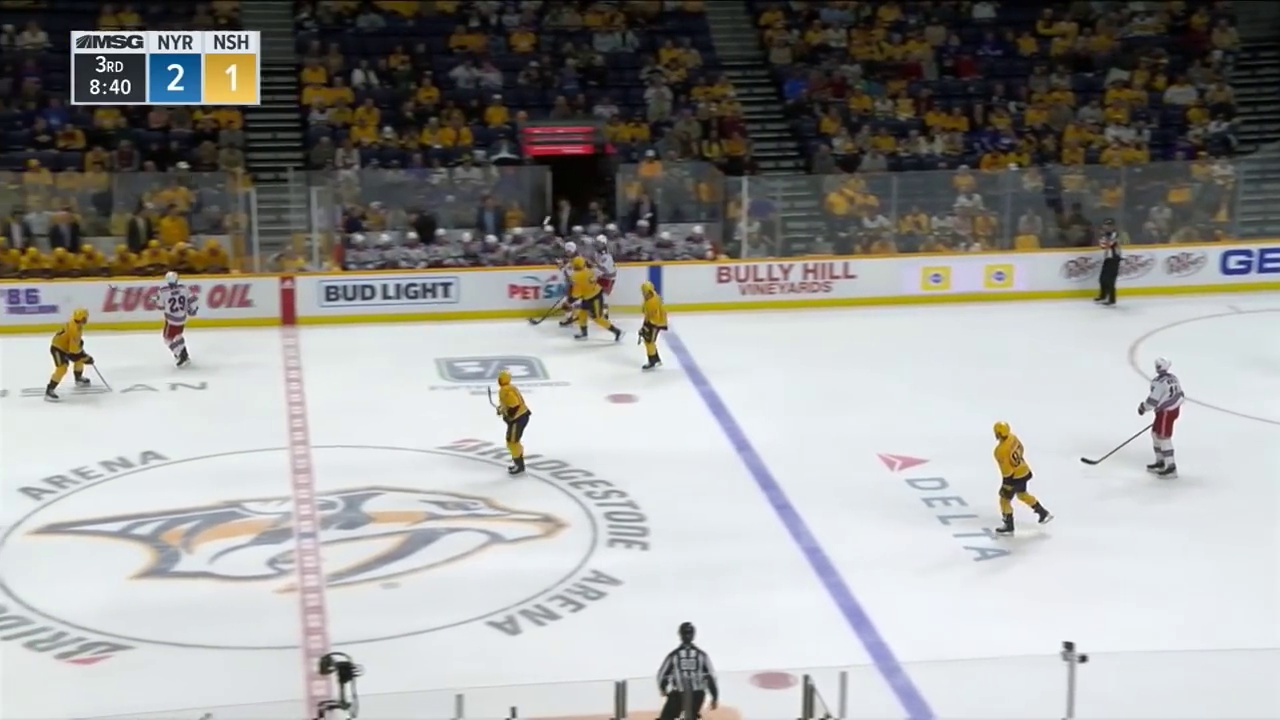hockeyplayer: (993, 421, 1054, 537), (1138, 356, 1185, 479), (562, 256, 626, 343), (44, 309, 94, 402), (156, 271, 198, 368), (496, 369, 532, 477), (638, 281, 668, 372), (592, 234, 617, 320), (559, 241, 583, 327)
referee: (656, 622, 719, 720), (1094, 218, 1121, 308)
